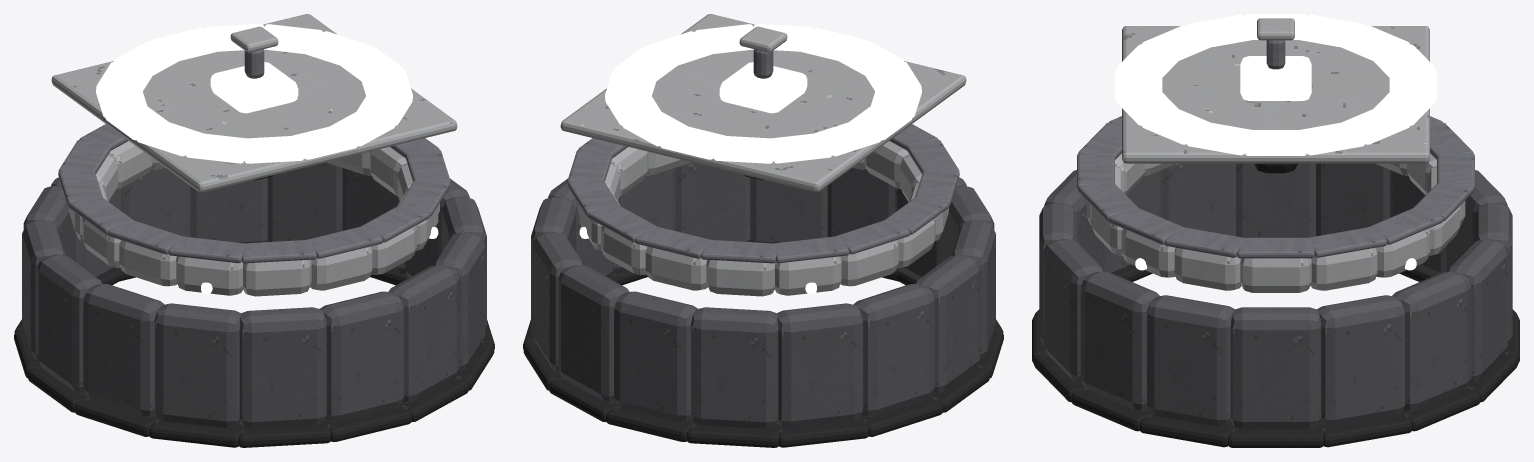
Rendered from decor_bridge_holomap_island.glb.
3 views of the same model, side by side, from view 1: azimuth 30°, elevation 25°; view 2: azimuth 150°, elevation 25°; view 3: azimuth 270°, elevation 25° (orthographic). The views are drawn at different scales.
Parts seen in each view (by area): view 1: DEC_BridgeHolomapIsland__Map_Table, DEC_BridgeHolomapIsland__Drum_Lower_12, DEC_BridgeHolomapIsland__Drum_Lower_11, DEC_BridgeHolomapIsland__Drum_Lower_13, DEC_BridgeHolomapIsland__Drum_Lower_10, DEC_BridgeHolomapIsland__Drum_Lower_14, DEC_BridgeHolomapIsland__Drum_Lower_9, DEC_BridgeHolomapIsland__Drum_Lower_3, DEC_BridgeHolomapIsland__Drum_Lower_4, DEC_BridgeHolomapIsland__Drum_Lower_15, DEC_BridgeHolomapIsland__Drum_Lower_5, DEC_BridgeHolomapIsland__Map_Core (+55 smaller); view 2: DEC_BridgeHolomapIsland__Map_Table, DEC_BridgeHolomapIsland__Drum_Lower_6, DEC_BridgeHolomapIsland__Drum_Lower_7, DEC_BridgeHolomapIsland__Drum_Lower_5, DEC_BridgeHolomapIsland__Drum_Lower_8, DEC_BridgeHolomapIsland__Drum_Lower_4, DEC_BridgeHolomapIsland__Drum_Lower_9, DEC_BridgeHolomapIsland__Drum_Lower_15, DEC_BridgeHolomapIsland__Drum_Lower_14, DEC_BridgeHolomapIsland__Drum_Lower_3, DEC_BridgeHolomapIsland__Drum_Lower_13, DEC_BridgeHolomapIsland__Map_Core (+55 smaller); view 3: DEC_BridgeHolomapIsland__Map_Table, DEC_BridgeHolomapIsland__Drum_Lower_1, DEC_BridgeHolomapIsland__Drum_Lower_2, DEC_BridgeHolomapIsland__Drum_Lower_16, DEC_BridgeHolomapIsland__Drum_Lower_3, DEC_BridgeHolomapIsland__Drum_Lower_15, DEC_BridgeHolomapIsland__Drum_Lower_9, DEC_BridgeHolomapIsland__Drum_Lower_4, DEC_BridgeHolomapIsland__Drum_Lower_14, DEC_BridgeHolomapIsland__Drum_Lower_8, DEC_BridgeHolomapIsland__Drum_Lower_10, DEC_BridgeHolomapIsland__Map_Core (+51 smaller).
Part boxes in pixels (<box>): DEC_BridgeHolomapIsland__Map_Table: <box>51,14,457,192</box>; DEC_BridgeHolomapIsland__Drum_Lower_12: <box>239,307,326,428</box>; DEC_BridgeHolomapIsland__Drum_Lower_11: <box>154,303,240,428</box>; DEC_BridgeHolomapIsland__Drum_Lower_13: <box>320,291,403,421</box>; DEC_BridgeHolomapIsland__Drum_Lower_10: <box>83,284,164,416</box>; DEC_BridgeHolomapIsland__Drum_Lower_14: <box>388,265,459,402</box>; DEC_BridgeHolomapIsland__Drum_Lower_9: <box>37,254,101,393</box>; DEC_BridgeHolomapIsland__Drum_Lower_3: <box>267,162,342,241</box>; DEC_BridgeHolomapIsland__Drum_Lower_4: <box>190,177,267,243</box>; DEC_BridgeHolomapIsland__Drum_Lower_15: <box>434,232,485,372</box>; DEC_BridgeHolomapIsland__Drum_Lower_5: <box>123,167,190,237</box>; DEC_BridgeHolomapIsland__Map_Core: <box>210,62,298,113</box>; DEC_BridgeHolomapIsland__Map_Table: <box>560,14,966,192</box>; DEC_BridgeHolomapIsland__Drum_Lower_6: <box>691,307,778,428</box>; DEC_BridgeHolomapIsland__Drum_Lower_7: <box>777,303,863,428</box>; DEC_BridgeHolomapIsland__Drum_Lower_5: <box>614,291,697,421</box>; DEC_BridgeHolomapIsland__Drum_Lower_8: <box>853,284,934,416</box>; DEC_BridgeHolomapIsland__Drum_Lower_4: <box>558,265,629,402</box>; DEC_BridgeHolomapIsland__Drum_Lower_9: <box>916,254,980,393</box>; DEC_BridgeHolomapIsland__Drum_Lower_15: <box>675,162,750,241</box>; DEC_BridgeHolomapIsland__Drum_Lower_14: <box>750,177,827,243</box>; DEC_BridgeHolomapIsland__Drum_Lower_3: <box>532,232,583,372</box>; DEC_BridgeHolomapIsland__Drum_Lower_13: <box>827,167,894,237</box>; DEC_BridgeHolomapIsland__Map_Core: <box>719,62,807,113</box>; DEC_BridgeHolomapIsland__Map_Table: <box>1122,26,1429,163</box>; DEC_BridgeHolomapIsland__Drum_Lower_1: <box>1230,307,1321,428</box>; DEC_BridgeHolomapIsland__Drum_Lower_2: <box>1317,295,1404,426</box>; DEC_BridgeHolomapIsland__Drum_Lower_16: <box>1147,295,1234,426</box>; DEC_BridgeHolomapIsland__Drum_Lower_3: <box>1392,271,1471,410</box>; DEC_BridgeHolomapIsland__Drum_Lower_15: <box>1080,271,1159,410</box>; DEC_BridgeHolomapIsland__Drum_Lower_9: <box>1236,163,1315,237</box>; DEC_BridgeHolomapIsland__Drum_Lower_4: <box>1448,239,1507,382</box>; DEC_BridgeHolomapIsland__Drum_Lower_14: <box>1044,239,1103,382</box>; DEC_BridgeHolomapIsland__Drum_Lower_8: <box>1316,163,1389,236</box>; DEC_BridgeHolomapIsland__Drum_Lower_10: <box>1162,163,1235,236</box>; DEC_BridgeHolomapIsland__Map_Core: <box>1240,56,1311,100</box>.
Size of the model in its own units: 2.06 by 1.5 by 2.06.
Materials: 6 (4 with a texture image).
